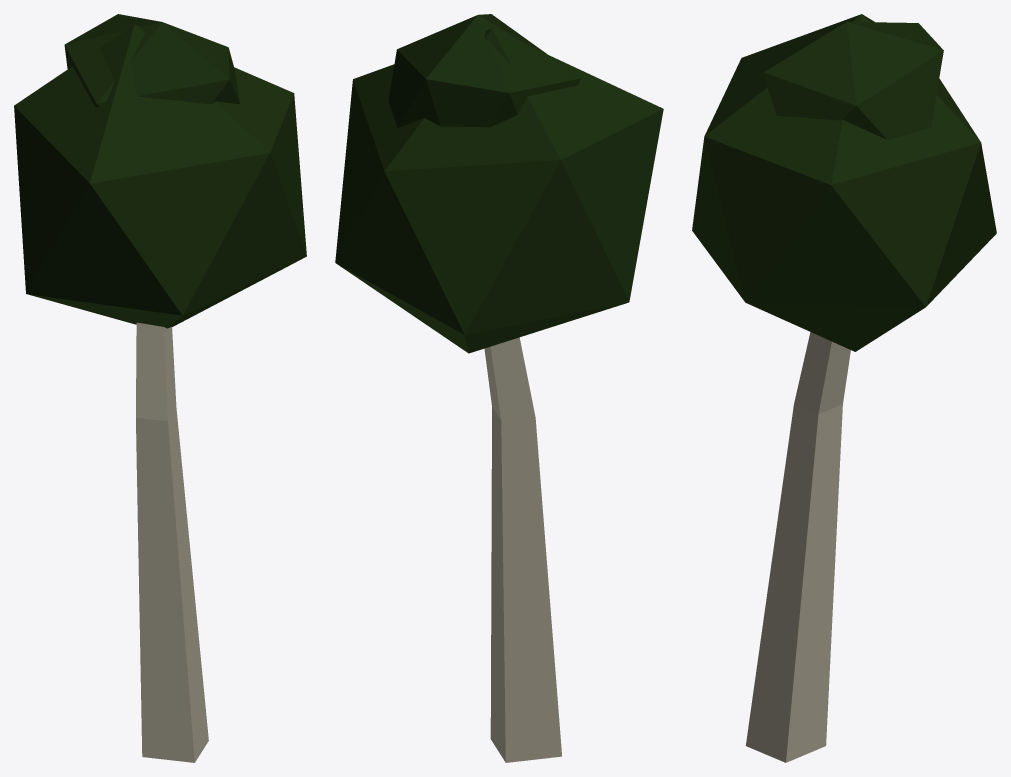
The model's file is SM_Tree_Birch_01_LOD2.fbx.
3 views of the same model, side by side, from view 1: azimuth 30°, elevation 25°; view 2: azimuth 150°, elevation 25°; view 3: azimuth 270°, elevation 25° (orthographic). The views are drawn at different scales.
Visible parts, largest first — view 1: SM_Tree_Birch_01_LOD2; view 2: SM_Tree_Birch_01_LOD2; view 3: SM_Tree_Birch_01_LOD2.
Part boxes in pixels (x1=…): SM_Tree_Birch_01_LOD2: x1=14, y1=14, x2=306, y2=762; SM_Tree_Birch_01_LOD2: x1=335, y1=14, x2=663, y2=762; SM_Tree_Birch_01_LOD2: x1=692, y1=14, x2=996, y2=762.
Size of the model in its own units: 82.86 by 211 by 79.67.
